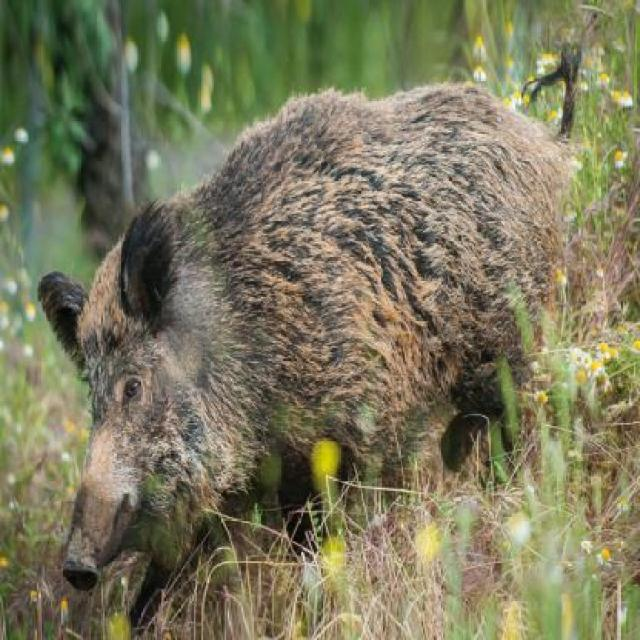wildboar: (38, 78, 628, 597)
